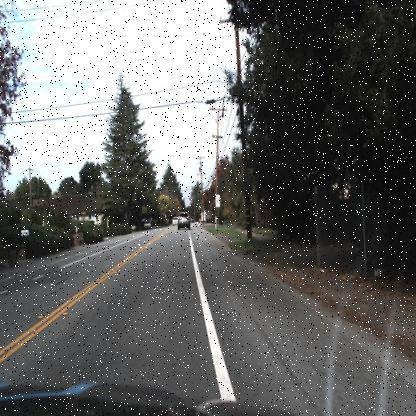car: (174, 208, 192, 236), (140, 214, 154, 235), (170, 212, 179, 228), (199, 206, 206, 223)
